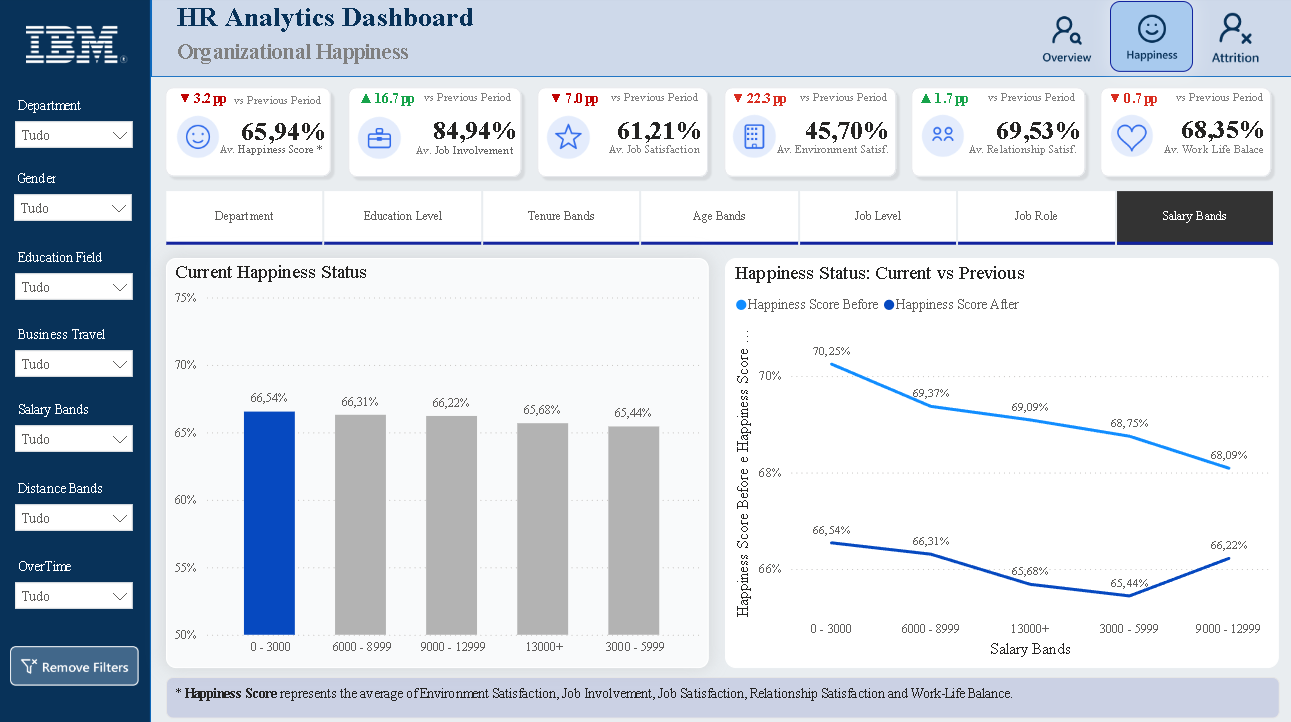

This screenshot's page, from the dashboard's own definition file:
{"tool":"powerbi","page":{"name":"Organizational Happiness","canvas":[1280,720],"ordinal":2},"visuals":[{"type":"cardVisual","title":"Envoirement Satisfation","fields":{"Data":["_Medidas.AV Relationship Satisfaction"]},"box":[891.5,81.7,86.5,27.6],"z":0,"group":"g10"},{"type":"cardVisual","title":"Envoirement Satisfation","fields":{"Data":["_Medidas.AV Work Life Balance"]},"box":[1079.3,81.9,84.5,27.6],"z":0,"group":"g11"},{"type":"cardVisual","title":"Envoirement Satisfation","fields":{"Data":["_Medidas.AV Job Involvement"]},"box":[343,82,84.4,27.8],"z":0,"group":"g7"},{"type":"cardVisual","title":"Envoirement Satisfation","fields":{"Data":["_Medidas.AV Environment Satisfaction"]},"box":[709.1,82,86.5,27.6],"z":0,"group":"g9"},{"type":"cardVisual","title":"Envoirement Satisfation","fields":{"Data":["_Medidas.AV HAPPINESS"]},"box":[160,82.1,85.1,28.7],"z":0,"group":"g6"},{"type":"cardVisual","title":"Envoirement Satisfation","fields":{"Data":["_Medidas.AV Job Satisfaction"]},"box":[527.8,82.3,84.4,27.8],"z":0,"group":"g8"},{"type":"shape","box":[160.2,83.8,175.9,100.4],"z":0},{"type":"shape","box":[340.7,83.8,183.3,101],"z":0,"group":"g5"},{"type":"shape","box":[527.3,84.1,181,101],"z":0,"group":"g4"},{"type":"shape","box":[1083.9,84.1,181.1,100.8],"z":0,"group":"g1"},{"type":"shape","box":[712,84.4,182.1,100.8],"z":0,"group":"g3"},{"type":"shape","box":[897.3,84.4,184.2,100.8],"z":0,"group":"g2"},{"type":"shape","box":[151.9,0,1129,80.1],"z":1000},{"type":"textbox","box":[973.7,86.4,120.4,27.8],"z":1000,"group":"g10"},{"type":"textbox","box":[1159.6,86.6,117.5,27.8],"z":1000,"group":"g11"},{"type":"textbox","box":[788.4,86.8,121.4,27.6],"z":1000,"group":"g9"},{"type":"textbox","box":[417.1,87.1,120.4,27.8],"z":1000,"group":"g7"},{"type":"textbox","box":[601.9,87.4,120.4,27.8],"z":1000,"group":"g8"},{"type":"textbox","box":[229.5,89.6,120.4,27.8],"z":1000,"group":"g6"},{"type":"cardVisual","fields":{"Data":["_Medidas.Média Work Life Balance % (Depois)"]},"box":[1156,96.1,109.4,61.3],"z":1000,"group":"g1"},{"type":"cardVisual","fields":{"Data":["_Medidas.Média Environment Satisfaction % (Depois)"]},"box":[757.7,96.4,133.4,63.7],"z":1000,"group":"g3"},{"type":"cardVisual","fields":{"Data":["_Medidas.Média Relationship Satisfaction % (Depois)"]},"box":[968.2,98.8,120.2,58.9],"z":1000,"group":"g2"},{"type":"textbox","box":[562.2,138.2,137,50.5],"z":1000,"group":"g4"},{"type":"textbox","box":[356.3,139.1,158.6,49.3],"z":1000,"group":"g5"},{"type":"shape","box":[0,0,152,720],"z":2000},{"type":"image","box":[530.9,111.7,66.1,56.5],"z":2000,"group":"g4"},{"type":"image","box":[344.3,112.6,66.1,55.3],"z":2000,"group":"g5"},{"type":"textbox","box":[1116.4,138.2,140.6,45.7],"z":2000,"group":"g1"},{"type":"textbox","box":[746.9,138.5,139.4,48.1],"z":2000,"group":"g3"},{"type":"textbox","box":[931,138.5,141.8,46.9],"z":2000,"group":"g2"},{"type":"cardVisual","fields":{"Data":["_Medidas.Média Job Involvement % (Depois)"]},"box":[390,97,133.4,62.5],"z":3000,"group":"g5"},{"type":"cardVisual","fields":{"Data":["_Medidas.Happiness After"]},"box":[217.5,97.4,117.8,61.3],"z":3000},{"type":"cardVisual","fields":{"Data":["_Medidas.Média Job Satisfaction % (Depois)"]},"box":[576.6,99.7,129.8,55.3],"z":3000,"group":"g4"},{"type":"image","box":[1091.1,110.5,61.3,55.3],"z":3000,"group":"g1"},{"type":"image","box":[718,110.8,60.1,56.5],"z":3000,"group":"g3"},{"type":"image","box":[903.3,110.8,62.5,55.3],"z":3000,"group":"g2"},{"type":"image","box":[23.1,8,111.7,79.8],"z":4000},{"type":"textbox","box":[192.3,138.2,134.6,49.3],"z":5000},{"type":"slicer","fields":{"Values":["Fato.OverTime"]},"box":[8,551,135.7,77.8],"z":6000},{"type":"image","box":[159.8,111.8,76.9,55.3],"z":7000},{"type":"textbox","box":[172.4,0,360.8,51.4],"z":8000},{"type":"textbox","box":[173.1,38.7,466.9,37.8],"z":9000},{"type":"slicer","fields":{"Values":["D_BusinessTravel.BusinessTravel"]},"box":[7.9,321.6,135.7,74],"z":10000},{"type":"slicer","fields":{"Values":["Fato.Salary Bands"]},"box":[7.9,395.6,135.7,78.8],"z":11000},{"type":"slicer","fields":{"Values":["Fato.Distancy Bands"]},"box":[7.9,474.4,135.7,76.9],"z":12000},{"type":"slicer","fields":{"Values":["D_Education.EducationField"]},"box":[8,246,135.7,79.7],"z":13000},{"type":"image","box":[8,629,136.6,64.5],"z":14000},{"type":"image","box":[1014.3,8.5,84.4,64.5],"z":15000},{"type":"image","box":[1098.9,5.1,82.3,70],"z":16000},{"type":"slicer","fields":{"Values":["D_Department.Department"]},"box":[8,96,135.7,77.8],"z":17000},{"type":"slicer","fields":{"Values":["D_Gender.Gender"]},"box":[7,168,136,78],"z":18000},{"type":"image","box":[1182,5,82,70],"z":19000},{"type":"slicer","fields":{"Values":["Parameter Overview.Parameter Overview"]},"box":[143.6,186,1136.2,67.2],"z":21000},{"type":"clusteredColumnChart","title":"Current Happiness Status","fields":{"Category":["F_MovimentoFuncionarios.Salary Bands"],"Y":["_Medidas.Happiness After"]},"box":[166.6,258.8,535.9,405.1],"z":22000},{"type":"lineChart","title":"Happiness Status: Current vs Previous","fields":{"Category":["F_MovimentoFuncionarios.Salary Bands"],"Y":["_Medidas.Happiness Before","_Medidas.Happiness After"]},"box":[719.1,258.8,546.9,405.1],"z":23000},{"type":"group","id":"g1","title":"Grupo 1","box":[1083.9,84.1,181.5,100.8],"z":24000},{"type":"group","id":"g2","title":"Grupo 6","box":[897.3,84.4,191.1,101],"z":25000},{"type":"group","id":"g3","title":"Grupo 5","box":[712,84.4,182.1,102.2],"z":26000},{"type":"group","id":"g4","title":"Grupo 4","box":[527.3,84.1,181,104.6],"z":27000},{"type":"group","id":"g5","title":"Grupo 3","box":[340.7,83.8,183.3,104.6],"z":28000},{"type":"group","id":"g6","title":"Grupo 2","box":[160,82.1,189.9,35.2],"z":29000},{"type":"group","id":"g7","title":"Grupo 2","box":[343,82,194.5,32.9],"z":30000},{"type":"group","id":"g8","title":"Grupo 2","box":[527.8,82.3,194.5,32.9],"z":31000},{"type":"group","id":"g9","title":"Grupo 2","box":[709.1,82,200.7,32.5],"z":32000},{"type":"group","id":"g10","title":"Grupo 2","box":[891.5,81.7,203.1,32.5],"z":33000},{"type":"group","id":"g11","title":"Grupo 2","box":[1079.3,81.9,198.3,32.5],"z":34000},{"type":"textbox","box":[166.7,672.2,1099.5,41.4],"z":35000}]}

Visuals, with their boxes on the page's 1280x720 design canvas (x1, y1, x2, y2). These are canvas units, not pixel positions in the 1291x722 screenshot, which may show the page scaled, cropped or inside an application window:
"Envoirement Satisfation" cardVisual: box(892, 82, 978, 109)
"Envoirement Satisfation" cardVisual: box(1079, 82, 1164, 110)
"Envoirement Satisfation" cardVisual: box(343, 82, 427, 110)
"Envoirement Satisfation" cardVisual: box(709, 82, 796, 110)
"Envoirement Satisfation" cardVisual: box(160, 82, 245, 111)
"Envoirement Satisfation" cardVisual: box(528, 82, 612, 110)
shape: box(160, 84, 336, 184)
shape: box(341, 84, 524, 185)
shape: box(527, 84, 708, 185)
shape: box(1084, 84, 1265, 185)
shape: box(712, 84, 894, 185)
shape: box(897, 84, 1082, 185)
shape: box(152, 0, 1281, 80)
textbox: box(974, 86, 1094, 114)
textbox: box(1160, 87, 1277, 114)
textbox: box(788, 87, 910, 114)
textbox: box(417, 87, 538, 115)
textbox: box(602, 87, 722, 115)
textbox: box(230, 90, 350, 117)
cardVisual - _Medidas.Média Work Life Balance % (Depois): box(1156, 96, 1265, 157)
cardVisual - _Medidas.Média Environment Satisfaction % (Depois): box(758, 96, 891, 160)
cardVisual - _Medidas.Média Relationship Satisfaction % (Depois): box(968, 99, 1088, 158)
textbox: box(562, 138, 699, 189)
textbox: box(356, 139, 515, 188)
shape: box(0, 0, 152, 720)
image: box(531, 112, 597, 168)
image: box(344, 113, 410, 168)
textbox: box(1116, 138, 1257, 184)
textbox: box(747, 138, 886, 187)
textbox: box(931, 138, 1073, 185)
cardVisual - _Medidas.Média Job Involvement % (Depois): box(390, 97, 523, 160)
cardVisual - _Medidas.Happiness After: box(218, 97, 335, 159)
cardVisual - _Medidas.Média Job Satisfaction % (Depois): box(577, 100, 706, 155)
image: box(1091, 110, 1152, 166)
image: box(718, 111, 778, 167)
image: box(903, 111, 966, 166)
image: box(23, 8, 135, 88)
textbox: box(192, 138, 327, 188)
slicer - Fato.OverTime: box(8, 551, 144, 629)
image: box(160, 112, 237, 167)
textbox: box(172, 0, 533, 51)
textbox: box(173, 39, 640, 76)
slicer - D_BusinessTravel.BusinessTravel: box(8, 322, 144, 396)
slicer - Fato.Salary Bands: box(8, 396, 144, 474)
slicer - Fato.Distancy Bands: box(8, 474, 144, 551)
slicer - D_Education.EducationField: box(8, 246, 144, 326)
image: box(8, 629, 145, 694)
image: box(1014, 8, 1099, 73)
image: box(1099, 5, 1181, 75)
slicer - D_Department.Department: box(8, 96, 144, 174)
slicer - D_Gender.Gender: box(7, 168, 143, 246)
image: box(1182, 5, 1264, 75)
slicer - Parameter Overview.Parameter Overview: box(144, 186, 1280, 253)
"Current Happiness Status" clusteredColumnChart: box(167, 259, 702, 664)
"Happiness Status: Current vs Previous" lineChart: box(719, 259, 1266, 664)
"Grupo 1" group: box(1084, 84, 1265, 185)
"Grupo 6" group: box(897, 84, 1088, 185)
"Grupo 5" group: box(712, 84, 894, 187)
"Grupo 4" group: box(527, 84, 708, 189)
"Grupo 3" group: box(341, 84, 524, 188)
"Grupo 2" group: box(160, 82, 350, 117)
"Grupo 2" group: box(343, 82, 538, 115)
"Grupo 2" group: box(528, 82, 722, 115)
"Grupo 2" group: box(709, 82, 910, 114)
"Grupo 2" group: box(892, 82, 1095, 114)
"Grupo 2" group: box(1079, 82, 1278, 114)
textbox: box(167, 672, 1266, 714)
